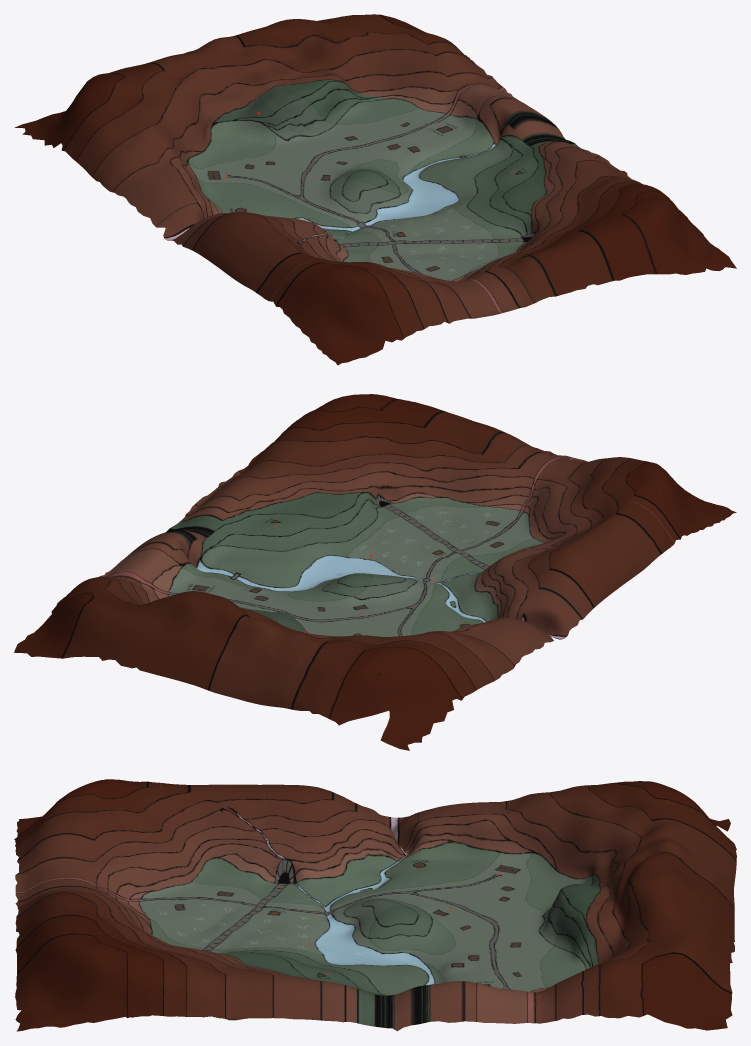
File: Kuvapeli_kartta6.fbx
3 renders of one model, top to bottom at view 1: azimuth 30°, elevation 25°; view 2: azimuth 150°, elevation 25°; view 3: azimuth 270°, elevation 25°, orthographic. The views are drawn at different scales.
Parts seen in each view (by area): view 1: kartta2.height; view 2: kartta2.height; view 3: kartta2.height.
Boxes of the visible parts, bbox=[...] form: kartta2.height: bbox=[14, 14, 736, 365]; kartta2.height: bbox=[14, 394, 736, 750]; kartta2.height: bbox=[14, 779, 736, 1031].
Bounding box in the file's own units: 42738 × 7881 × 60284.
